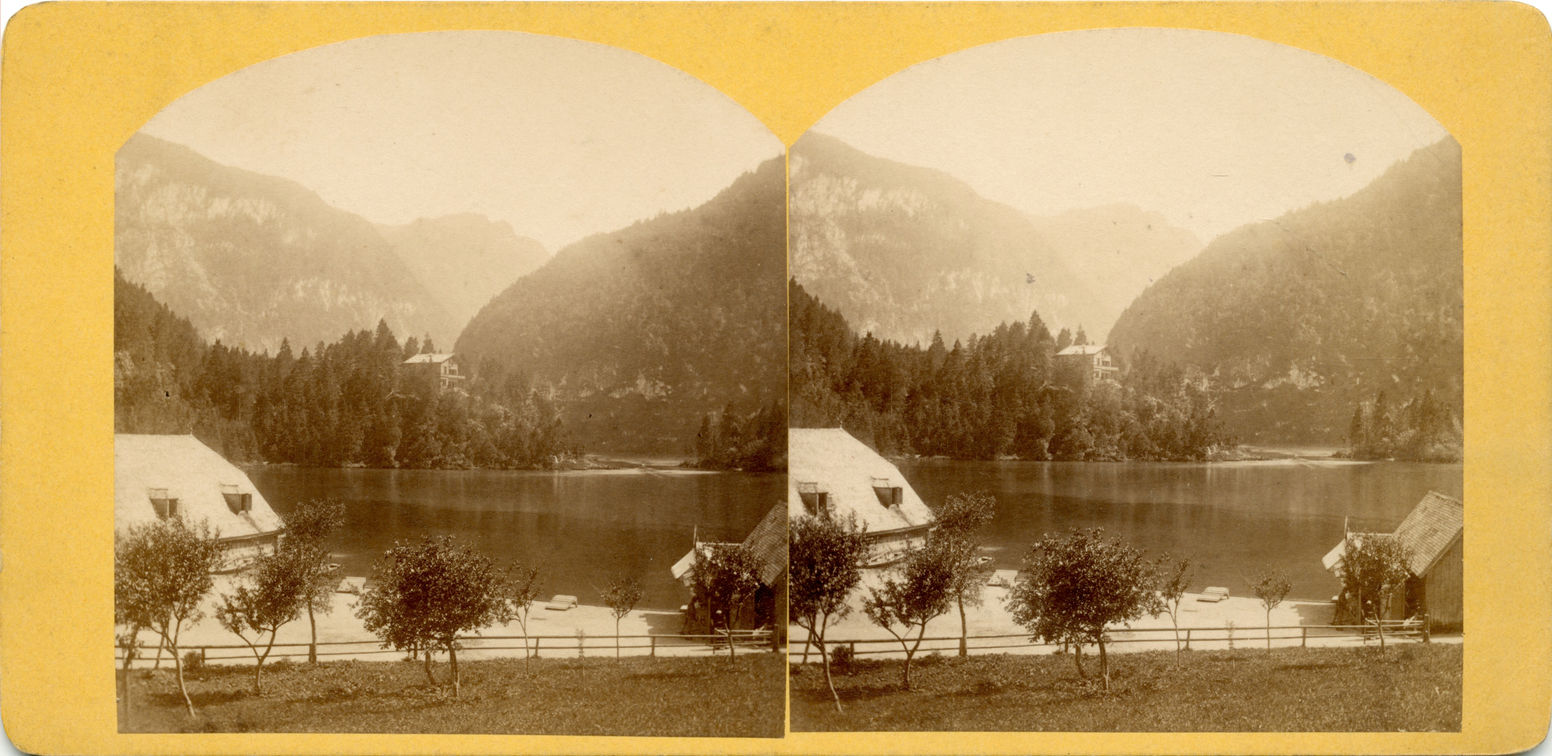half_image: (116, 31, 787, 737), (790, 29, 1462, 732)
